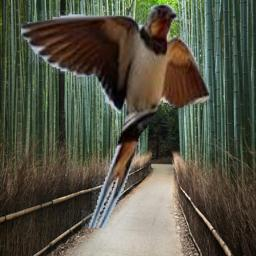Swallow: (21, 4, 211, 228)
